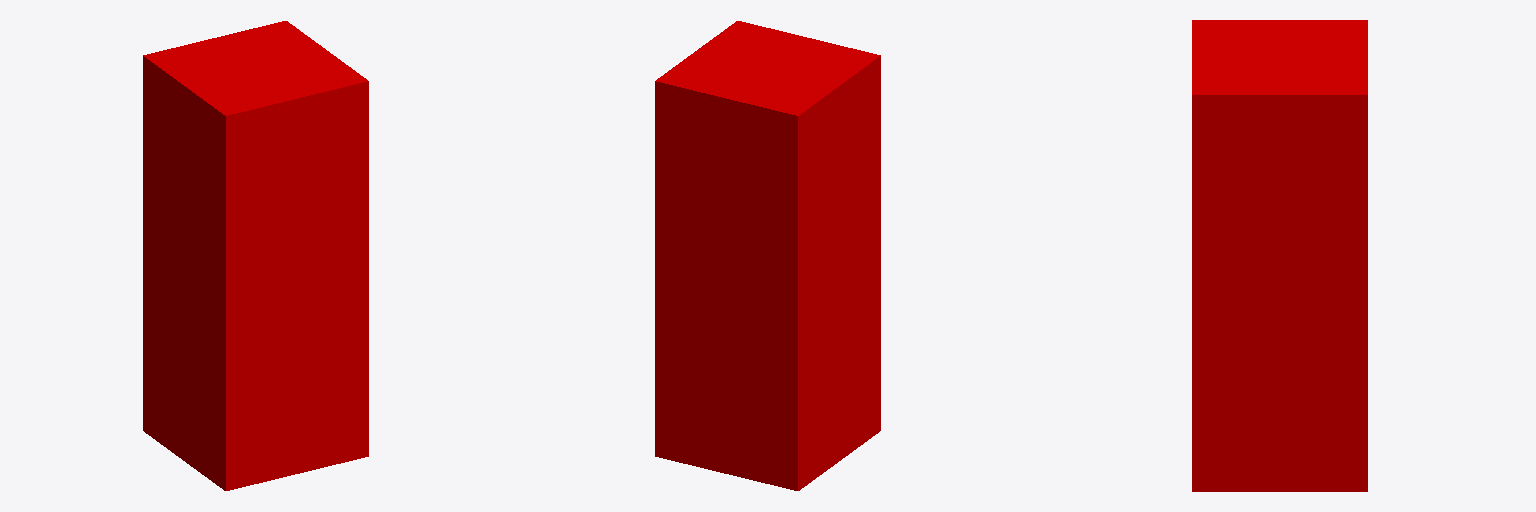
The robot description file, URDF, robot "screw_driver_6d":
<?xml version="1.0" ?>

<robot name="screw_driver_6d">
  <link name="world">
    <inertial>
      <mass value="10000.0"/>
      <!-- <inertia ixx="1000.0" ixy="0.0" ixz="0.0" iyy="1000.0" iyz="0.0" izz="1000.0"/> -->
    </inertial>
  </link>

  <joint name="world_joint_1" type="prismatic">
    <parent link="world"/>
    <child link="virtual_link_1"/>
    <origin rpy="0 0 0" xyz="0 0 0"/>
    <axis xyz="1 0 0"/>
    <limit effort="10" lower="-0.5" upper="0.5" velocity="0.5"/>
  </joint>

  <link name="virtual_link_1">
    <inertial>
      <mass value="0.000001"/>
    </inertial>
  </link>

  <joint name="world_joint_2" type="prismatic">
    <parent link="virtual_link_1"/>
    <child link="virtual_link_2"/>
    <origin rpy="0 0 0" xyz="0 0 0"/>
    <axis xyz="0 1 0"/>
    <limit effort="10" lower="-0.5" upper="0.5" velocity="0.5"/>
  </joint>

  <link name="virtual_link_2">
    <inertial>
      <mass value="0.000001"/>
    </inertial>
  </link>

  <joint name="world_joint_3" type="prismatic">
    <parent link="virtual_link_2"/>
    <child link="virtual_link_3"/>
    <origin rpy="0 0 0" xyz="0 0 0"/>
    <axis xyz="0 0 1"/>
    <limit effort="10" lower="-0.7" upper="1." velocity="0.5"/>
  </joint>

  <link name="virtual_link_3">
    <inertial>
      <mass value="0.000001"/>
    </inertial>
  </link>


  <joint name="world_joint_4" type="revolute">
    <parent link="virtual_link_3"/>
    <child link="virtual_link_4"/>
    <origin rpy="0 0 0" xyz="0 0 0"/>
    <axis xyz="1 0 0"/>
    <limit effort="10" lower="-3" upper="3" velocity="0.5"/>
  </joint>

  <link name="virtual_link_4">
    <inertial>
      <mass value="0.000001"/>
    </inertial>
  </link>

  <joint name="world_joint_5" type="revolute">
    <parent link="virtual_link_4"/>
    <child link="virtual_link_5"/>
    <origin rpy="0 0 0" xyz="0 0 0"/>
    <axis xyz="0 1 0"/>
    <limit effort="10" lower="-3" upper="3" velocity="0.5"/>
  </joint>

  <link name="virtual_link_5">
    <inertial>
      <mass value="0.000001"/>
    </inertial>
  </link>

  <joint name="world_joint_6" type="revolute">
    <parent link="virtual_link_5"/>
    <child link="cuboid"/>
    <origin rpy="0 0 0" xyz="0 0 0"/>
    <axis xyz="0 0 1"/>
    <limit effort="10" lower="-3" upper="3" velocity="0.5"/>
  </joint>


  <link name="cuboid">
    <inertial>
      <mass value="0.01"/>
    </inertial>
    <visual>
      <origin rpy="0 0 0" xyz="0 0 0"/>
      <geometry>
        <box size='0.04 0.04 0.1'/>
      </geometry>
      <material name="Red1">
        <color rgba="0.9 0. 0. 0.5"/>
      </material>
    </visual>
    <collision>
      <origin rpy="0 0 0" xyz="0 0 0.0"/>
      <geometry>
        <box size='0.04 0.04 0.1'/>
      </geometry>
    </collision>
  </link>
</robot>

--- Render facts (derived) ---
The picture shows the robot from 3 angles, left to right: view 1: azimuth 30°, elevation 25°; view 2: azimuth 150°, elevation 25°; view 3: azimuth 270°, elevation 25°; orthographic projection.
Model screw_driver_6d with 7 links and 6 joints (3 revolute, 3 prismatic), rooted at world, posed every joint at zero.
Links seen in each view (by area): view 1: cuboid; view 2: cuboid; view 3: cuboid.
Link boxes in pixels (x1,y1,x2,y2): cuboid: (143,21,368,490); cuboid: (655,21,880,490); cuboid: (1192,20,1367,491).
Size in the robot's own frame: 0.04 by 0.04 by 0.1 metres.
Geometry: primitives only (box / cylinder / sphere), no mesh files.
